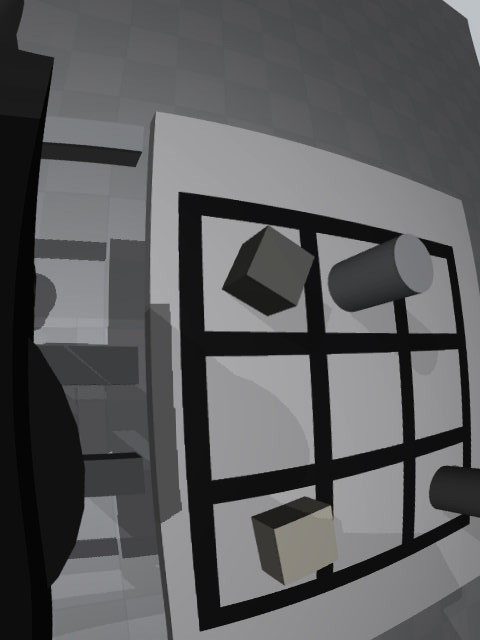can: (328, 233, 434, 312)
cube: (222, 225, 315, 317)
cylinder: (429, 465, 480, 517)
foam: (251, 496, 339, 586)
